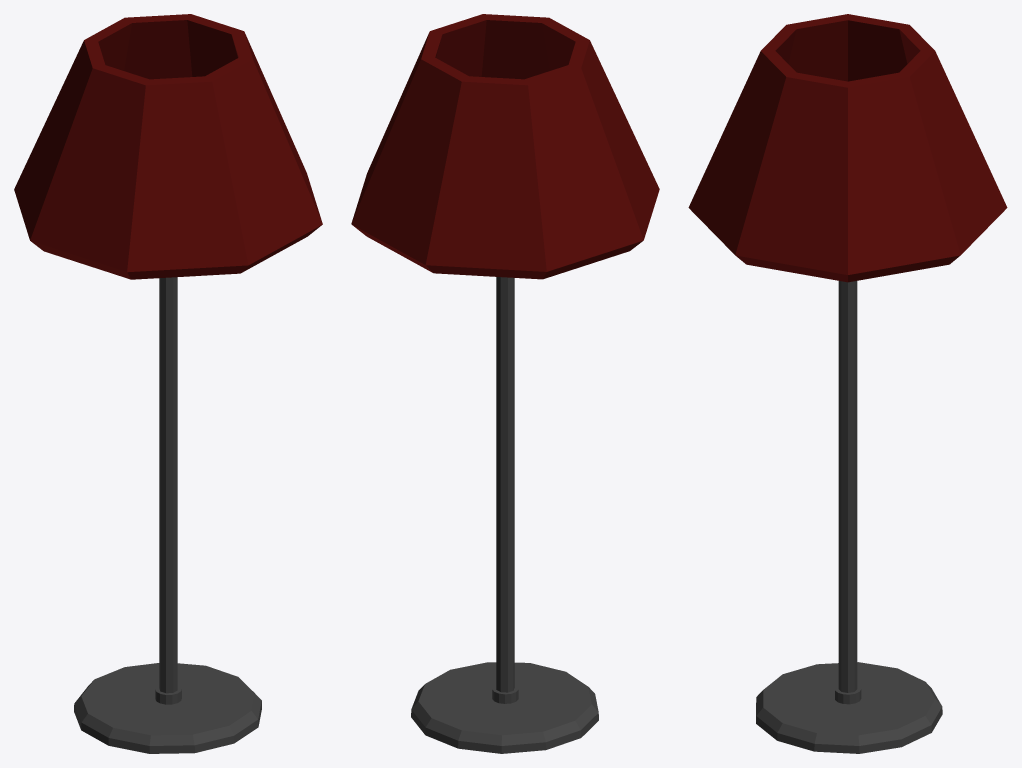
Rendered from hh_floor_lamp.glb.
The picture shows the model from 3 angles, left to right: view 1: azimuth 30°, elevation 25°; view 2: azimuth 150°, elevation 25°; view 3: azimuth 270°, elevation 25°; orthographic projection.
Parts seen in each view (by area): view 1: Lamp_A; view 2: Lamp_A; view 3: Lamp_A.
Part boxes in pixels (x1,y1,x2,y2): Lamp_A: [14, 14, 322, 753]; Lamp_A: [351, 14, 659, 753]; Lamp_A: [688, 14, 1007, 753].
Bounding box in the file's own units: 0.7309 × 1.68 × 0.7309.
